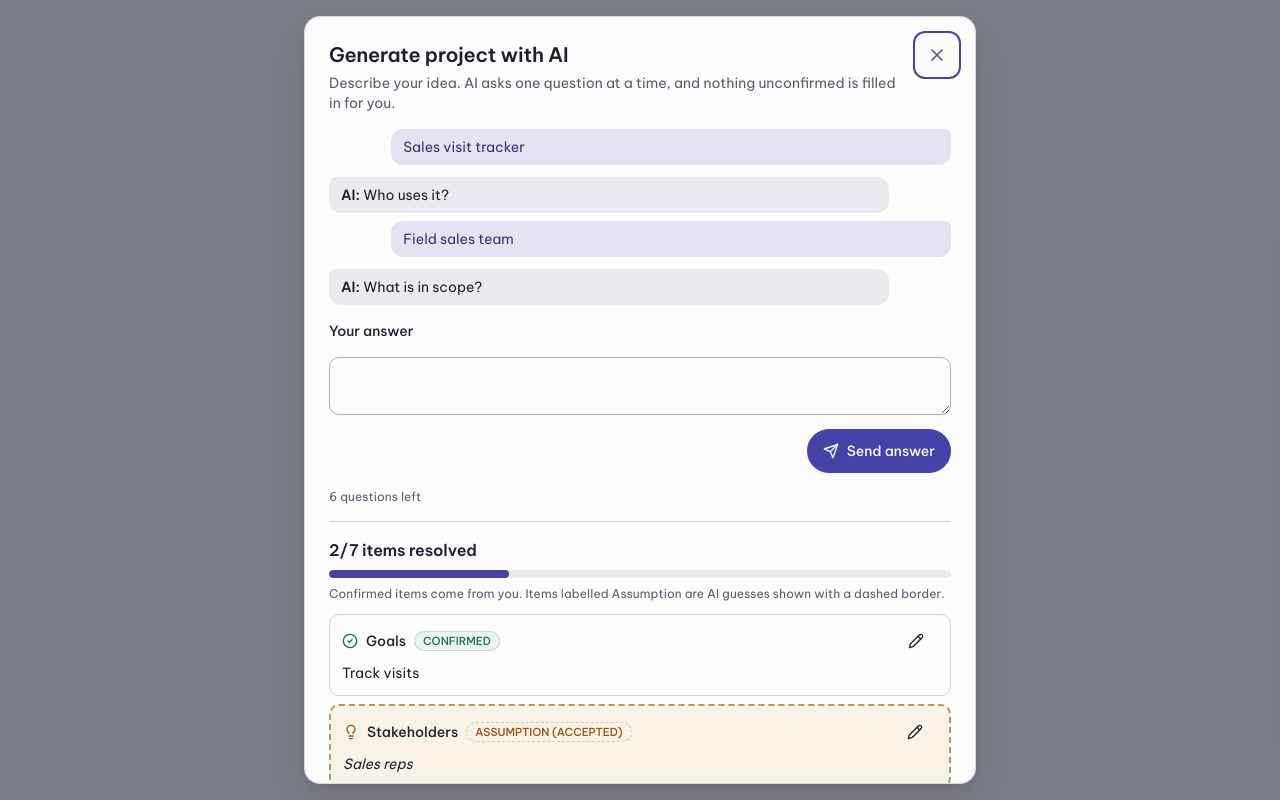
Test case: AI generator clarifier flow › shows turn-limit (409) and quota (429) errors in plain language
The image size is (1280, 800).
In the text box labelled "Your answer": (640, 386) [329, 357, 951, 415], type "Mobile check-in"
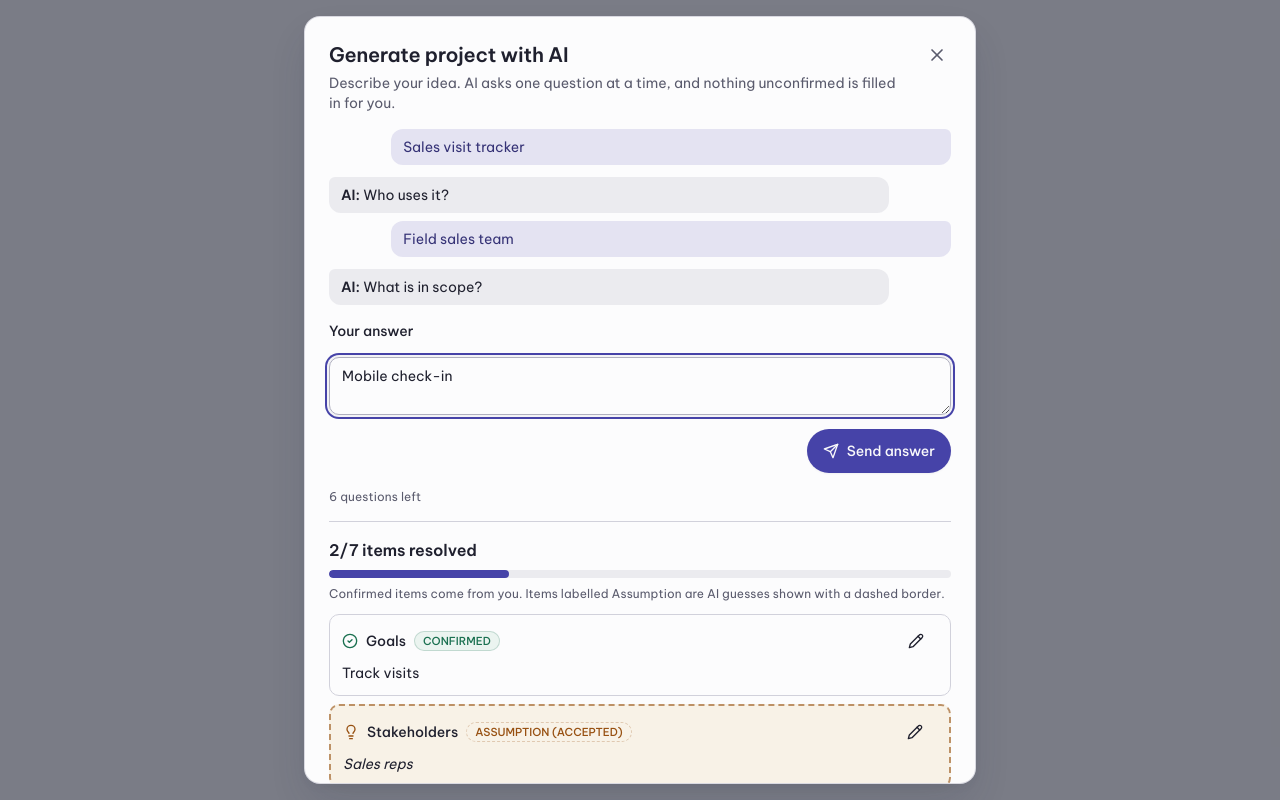
Click the button "Send answer": (879, 451) [807, 429, 951, 473]
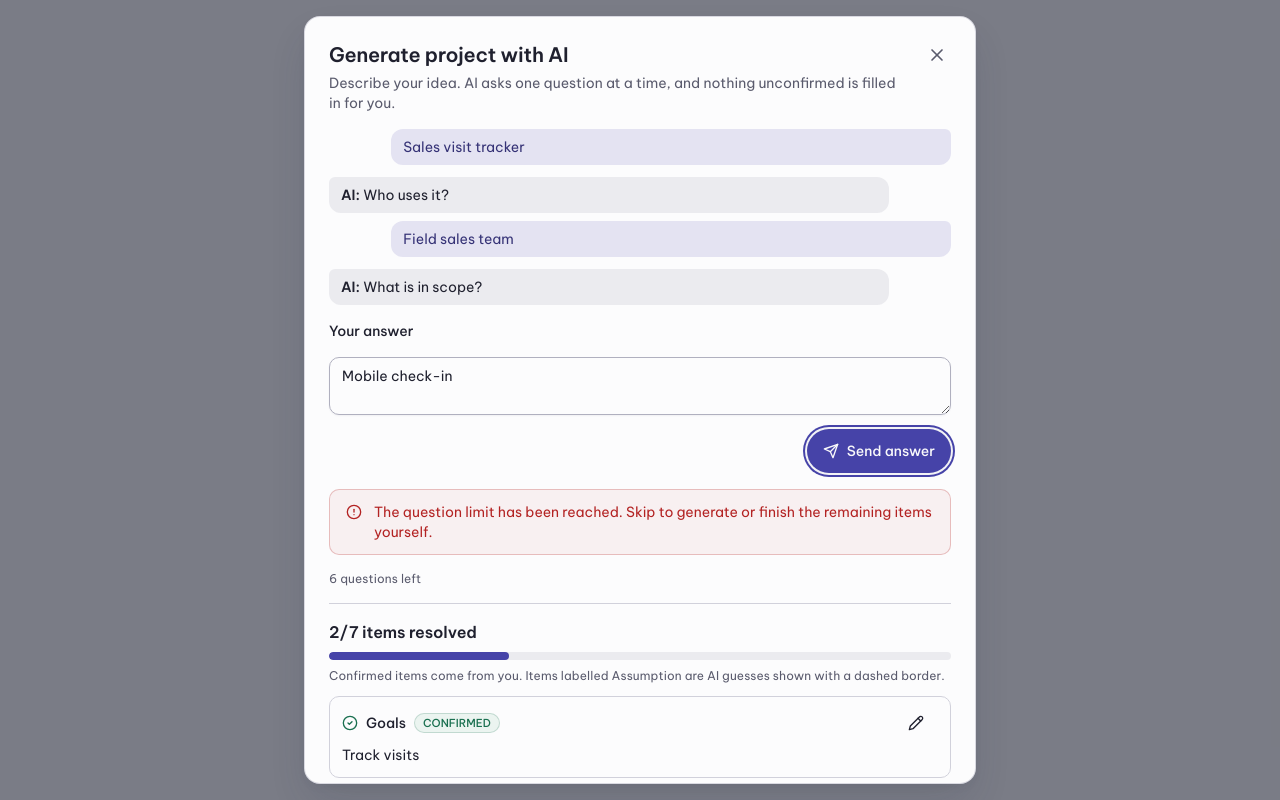
Expected: the text "question limit has been reached" is shown, [374, 503, 932, 541]
Click the button "Send answer": (879, 451) [807, 429, 951, 473]
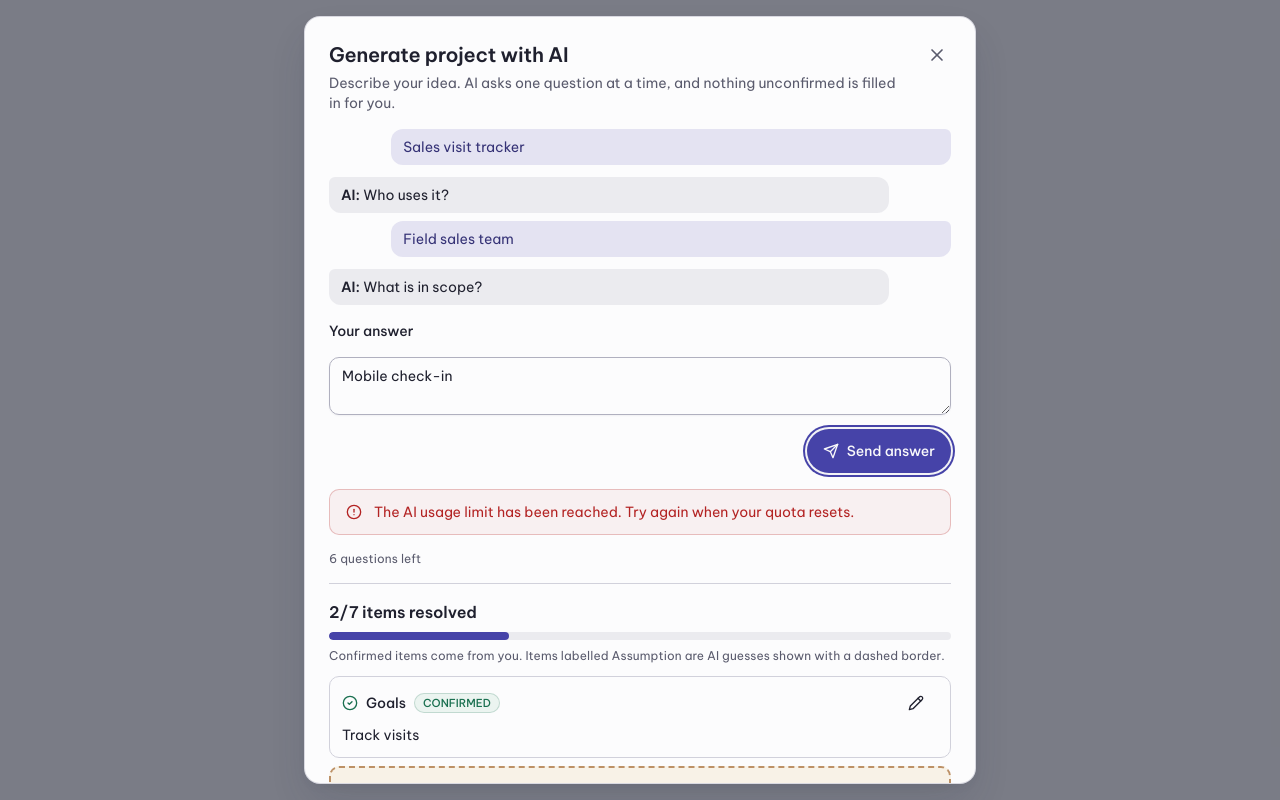
Expected: the text "AI usage limit has been reached" is shown, [374, 503, 854, 521]
